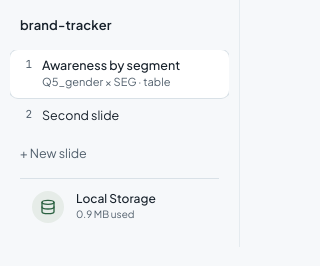
Test: StoryRail › renames a slide on double-click
The width and height of the screenshot is (320, 266).
Double-click the button with test id "story-rail-slide-1" at (120, 74), box [10,50,229,98]
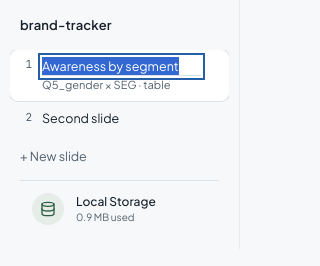
Replace the text in the field named "Rename slide" with "Renamed slide" at (122, 66), box [42,56,201,76]
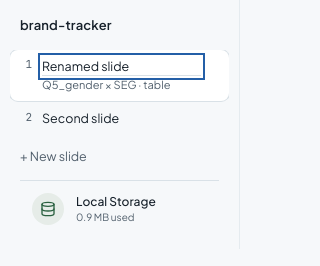
Press Enter in the field named "Rename slide", box [42,56,201,76]
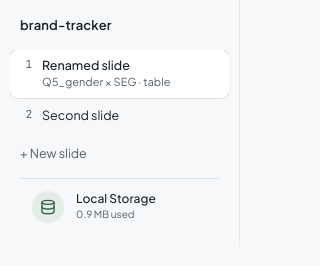
Check: the text "Renamed slide" is shown, box [42,56,130,72]
